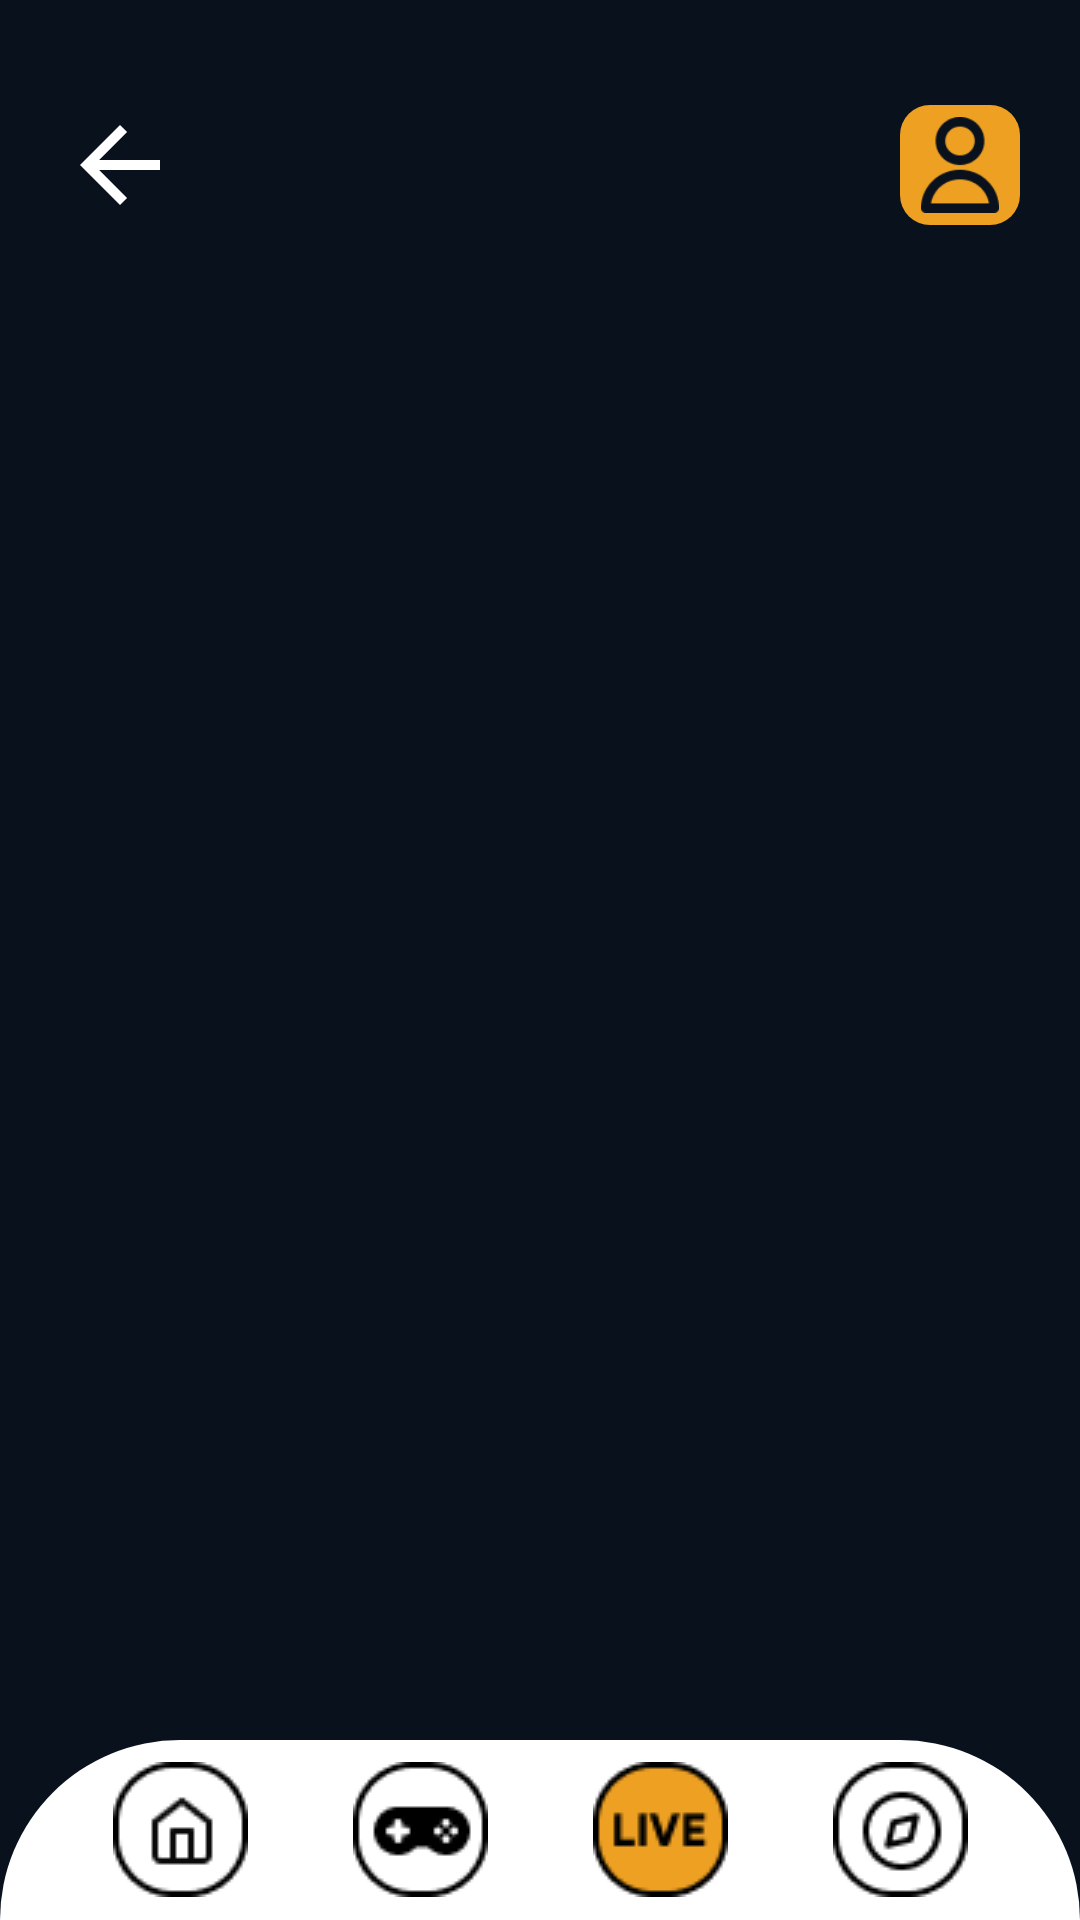

Point at icon controls on the screen. Image size 1080px x 1920px, points as point (x, y).
explore: point (900, 1829)
games: point (420, 1829)
home: point (180, 1829)
user: point (960, 165)
